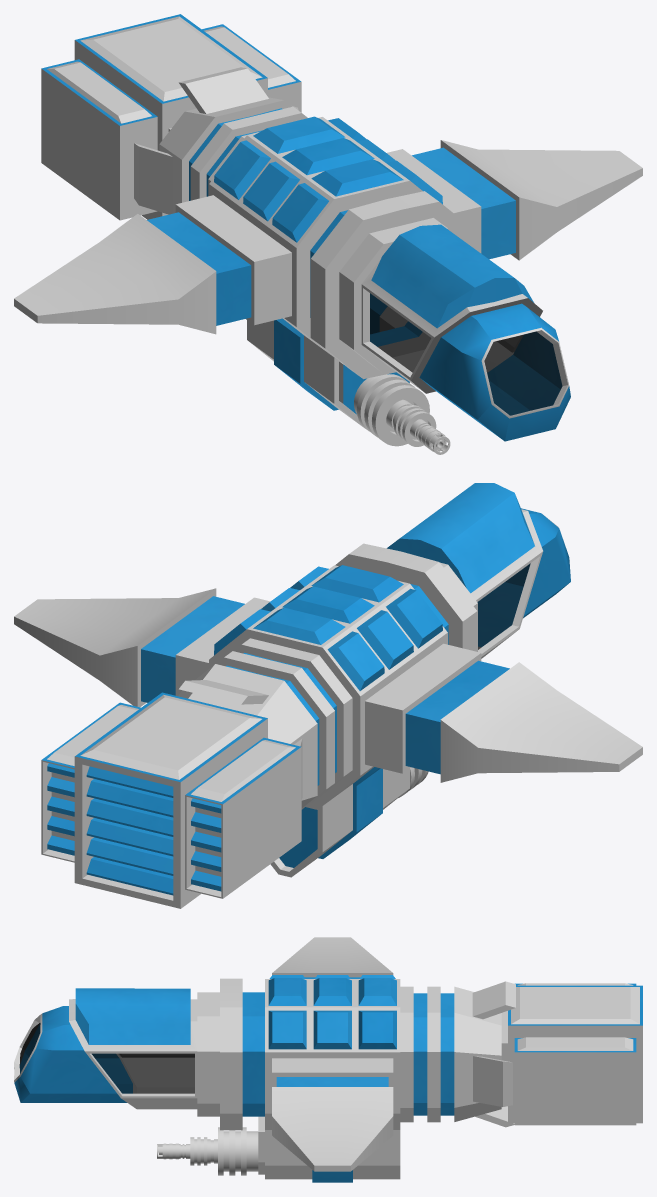
File: BEA.fbx
The picture shows the model from 3 angles, top to bottom: view 1: azimuth 30°, elevation 25°; view 2: azimuth 150°, elevation 25°; view 3: azimuth 270°, elevation 25°; orthographic projection. The views are drawn at different scales.
Parts seen in each view (by area): view 1: BEA; view 2: BEA; view 3: BEA.
Part boxes in pixels (left/top/right/bottom): BEA: left=14, top=14, right=642, bottom=454; BEA: left=14, top=483, right=642, bottom=908; BEA: left=14, top=937, right=642, bottom=1182.
Size of the model in its own units: 8 by 3.15 by 9.31.
